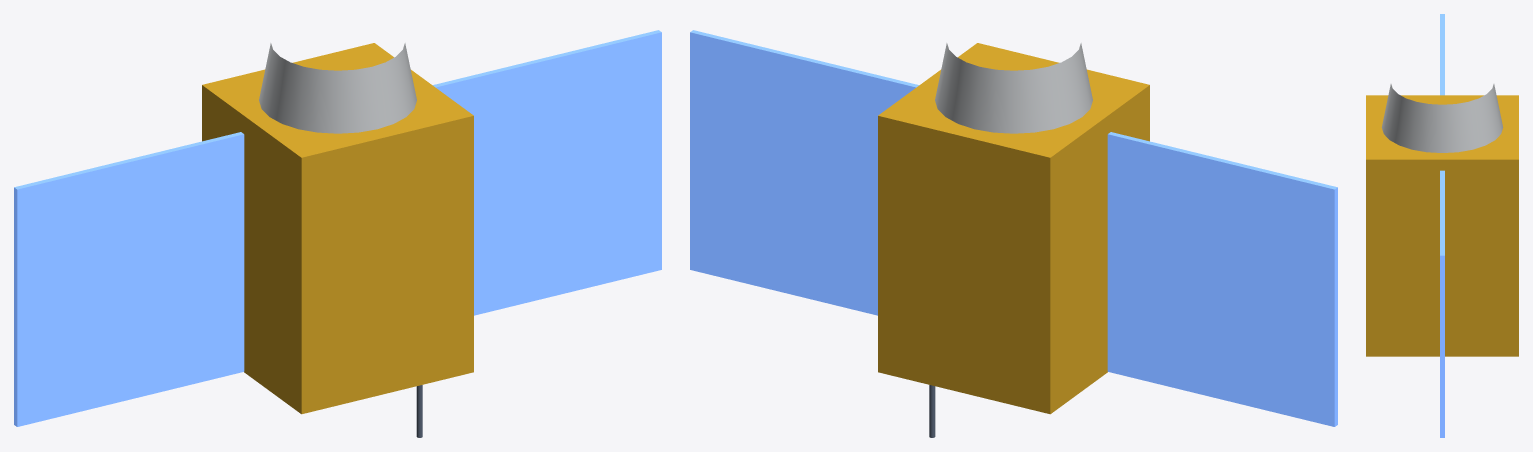
The model's file is aditya_l1.glb.
3 views of the same model, side by side, from view 1: azimuth 30°, elevation 25°; view 2: azimuth 150°, elevation 25°; view 3: azimuth 270°, elevation 25° (orthographic). The views are drawn at different scales.
Visible parts, largest first — view 1: Observatory_Core, Left_Solar_Wing, Right_Solar_Wing, VELC_Sunshield; view 2: Observatory_Core, Left_Solar_Wing, Right_Solar_Wing, VELC_Sunshield; view 3: Observatory_Core, VELC_Sunshield, Right_Solar_Wing, Left_Solar_Wing.
Part boxes in pixels (box(x1,y1,x2,y2)): Observatory_Core: box(202, 43, 473, 414); Left_Solar_Wing: box(14, 132, 244, 426); Right_Solar_Wing: box(432, 30, 661, 315); VELC_Sunshield: box(259, 43, 416, 133); Observatory_Core: box(878, 43, 1149, 414); Left_Solar_Wing: box(1107, 132, 1337, 426); Right_Solar_Wing: box(690, 30, 919, 315); VELC_Sunshield: box(935, 43, 1092, 133); Observatory_Core: box(1366, 95, 1518, 356); VELC_Sunshield: box(1381, 84, 1503, 152); Right_Solar_Wing: box(1440, 170, 1444, 437); Left_Solar_Wing: box(1440, 14, 1444, 95).
Size of the model in its own units: 3.55 by 2.18 by 0.95.
